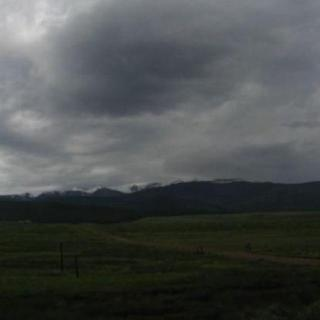Stratocumulus: (0, 0, 320, 177)
